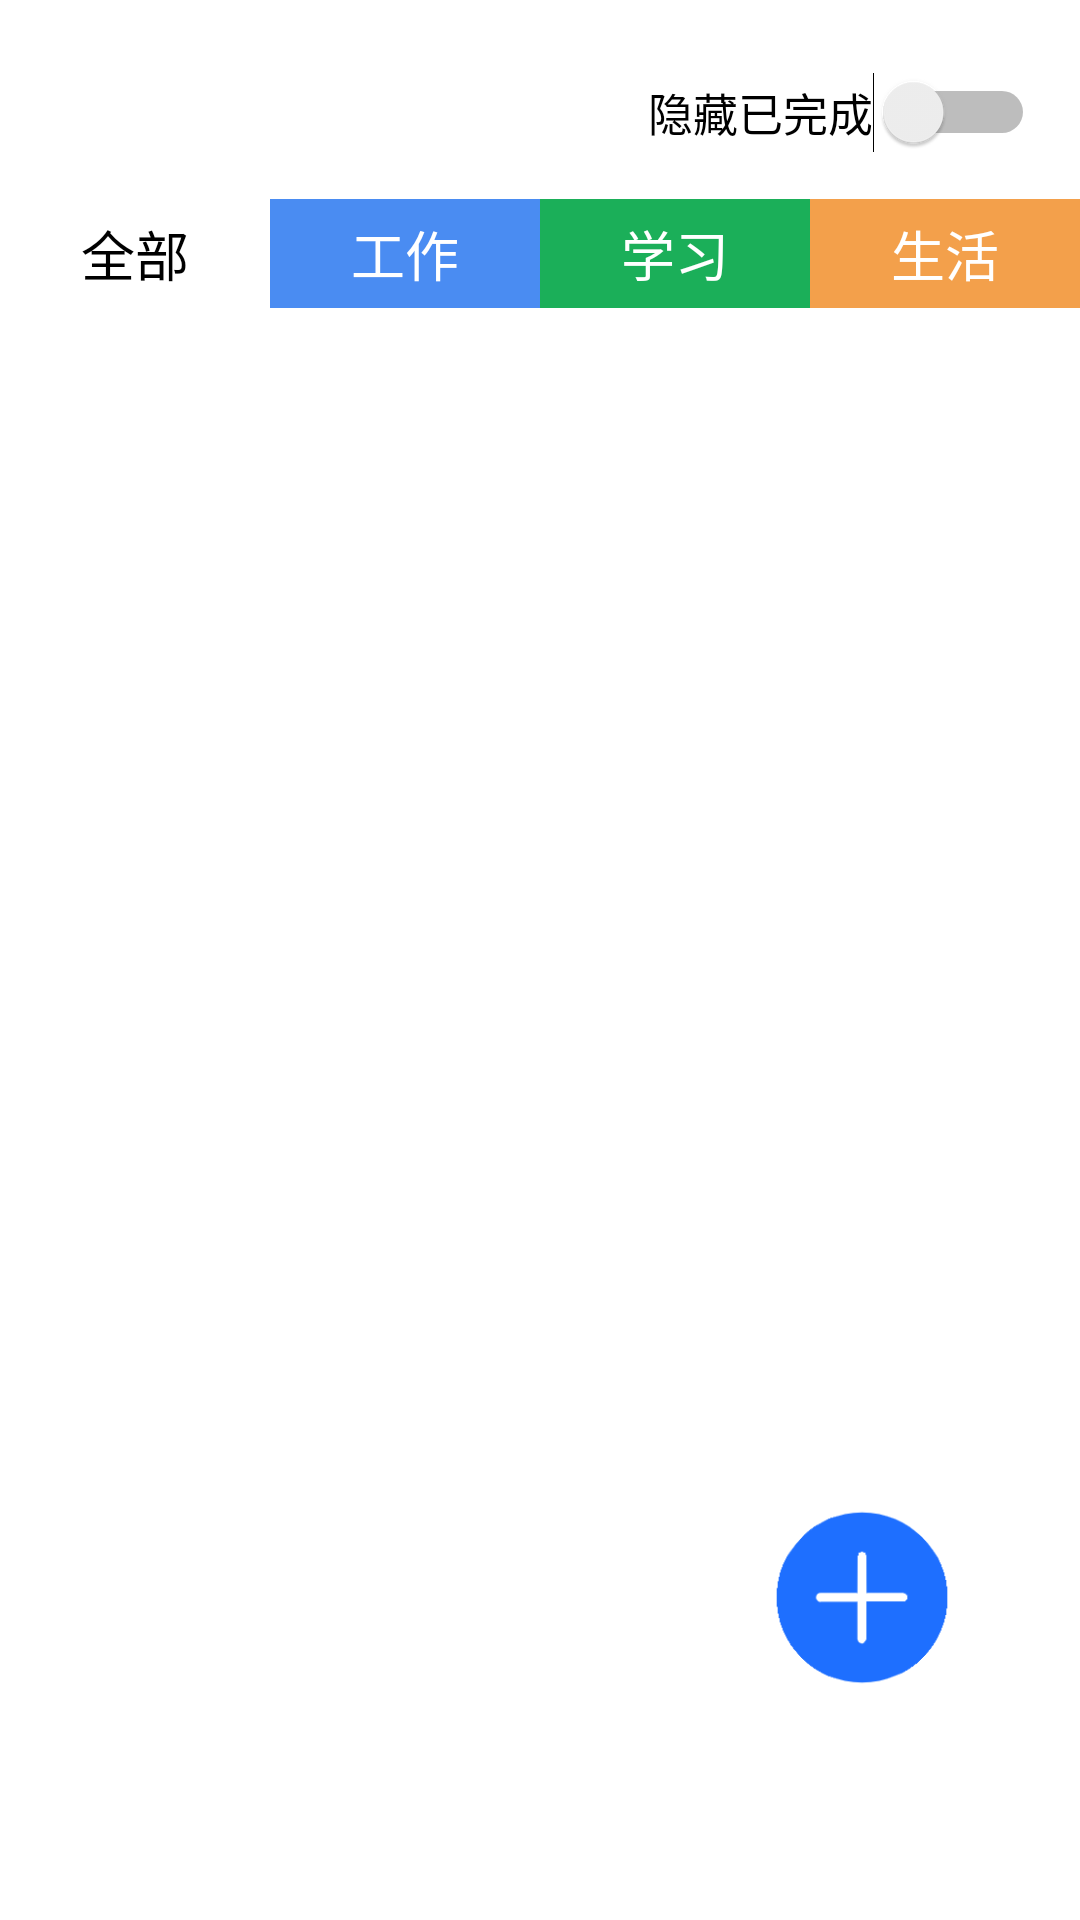

Icon click points for this 1080×1920 phone screenshot, format point (x, y):
add: point (862, 1597)
